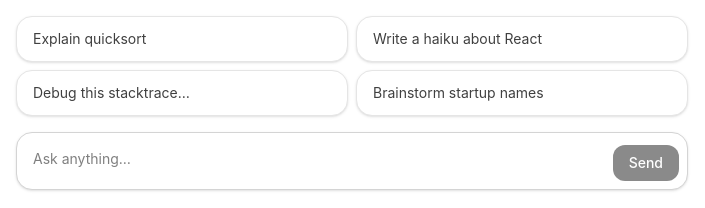
Test case: ChatView empty state (M3.3) › clicking a suggestion bubble populates the input
Expected: the text box named "message" is empty, [25,141,605,181]
Click the button "Explain quicksort". click: (90, 38)
box: [16,16,348,62]
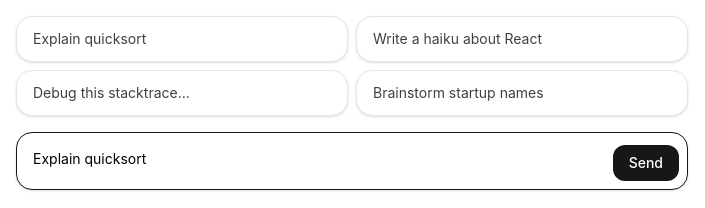
Now the text box named "message" holds "Explain quicksort", box [25,141,605,181]
